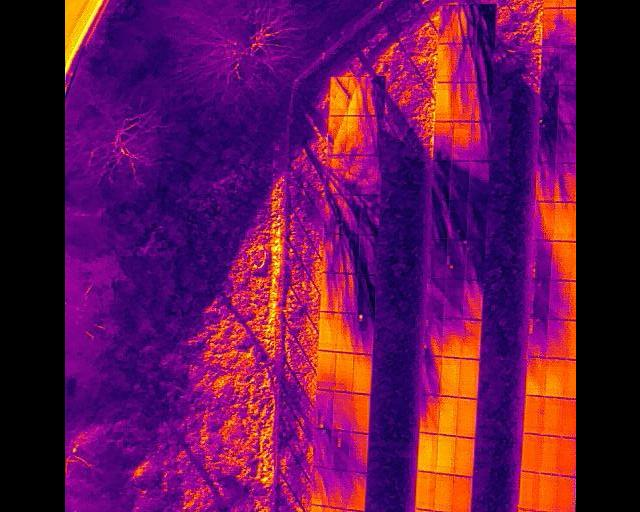Cell: (355, 314, 373, 355)
No-Anomaly: (454, 397, 474, 439), (438, 356, 458, 398), (524, 358, 545, 398), (414, 470, 434, 511), (538, 474, 559, 512), (540, 436, 561, 474), (349, 394, 369, 433), (544, 397, 564, 436), (453, 436, 472, 477), (434, 434, 453, 475), (546, 359, 566, 397), (523, 396, 543, 434), (555, 202, 574, 241), (352, 355, 371, 394), (521, 434, 540, 473), (519, 473, 539, 510), (318, 311, 336, 352), (333, 353, 352, 391), (316, 351, 334, 391), (450, 475, 469, 512), (458, 359, 476, 398), (437, 395, 454, 436), (434, 473, 451, 512), (434, 83, 451, 122), (418, 434, 435, 473), (560, 475, 576, 512), (436, 44, 451, 83), (561, 438, 576, 476), (543, 0, 562, 9), (562, 0, 576, 9)
Shadowing: (523, 280, 548, 319), (526, 242, 550, 281), (548, 281, 571, 321), (474, 4, 496, 44), (418, 355, 439, 396), (471, 81, 492, 122), (554, 164, 576, 203), (451, 43, 472, 83), (342, 155, 363, 195), (533, 202, 554, 242), (547, 320, 569, 358), (525, 320, 547, 358), (541, 8, 561, 49), (555, 125, 576, 164), (551, 242, 572, 281), (533, 163, 554, 202), (468, 162, 489, 201), (536, 124, 557, 163), (462, 279, 482, 319), (441, 318, 461, 358), (361, 155, 381, 195), (360, 195, 380, 235), (327, 76, 347, 116), (473, 45, 494, 83), (555, 86, 575, 125), (451, 82, 471, 121), (451, 121, 471, 160), (448, 201, 468, 240), (445, 239, 465, 278), (417, 395, 437, 434), (346, 76, 366, 115), (340, 195, 360, 234), (338, 234, 358, 273), (325, 154, 344, 195), (329, 430, 348, 471), (460, 319, 479, 359), (448, 161, 467, 201), (443, 279, 462, 319), (363, 116, 382, 156), (356, 274, 375, 314), (437, 5, 456, 44), (366, 76, 385, 115), (345, 116, 364, 155), (420, 318, 440, 355), (348, 434, 367, 472), (540, 48, 559, 86), (465, 239, 483, 279), (456, 4, 474, 44), (347, 471, 365, 511), (539, 87, 558, 124), (432, 121, 450, 160), (359, 235, 377, 274), (338, 273, 356, 312), (331, 391, 349, 430), (329, 470, 347, 509), (314, 390, 332, 429), (469, 202, 487, 241), (425, 278, 442, 319), (337, 313, 354, 354), (472, 121, 489, 162), (431, 162, 448, 202), (433, 121, 450, 160), (428, 239, 445, 278), (327, 116, 344, 155), (313, 429, 330, 468), (312, 468, 329, 506), (559, 48, 576, 86), (430, 202, 447, 239), (323, 234, 339, 273), (321, 273, 337, 312), (562, 8, 576, 49)
